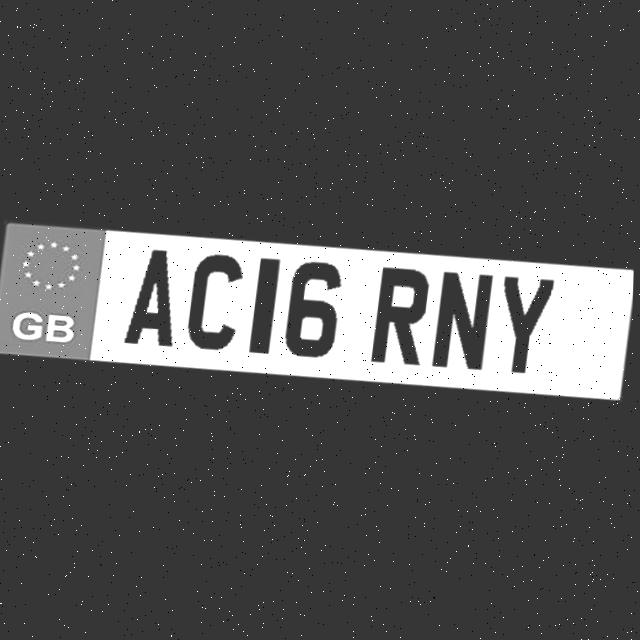license-plates: (0, 224, 634, 399)
